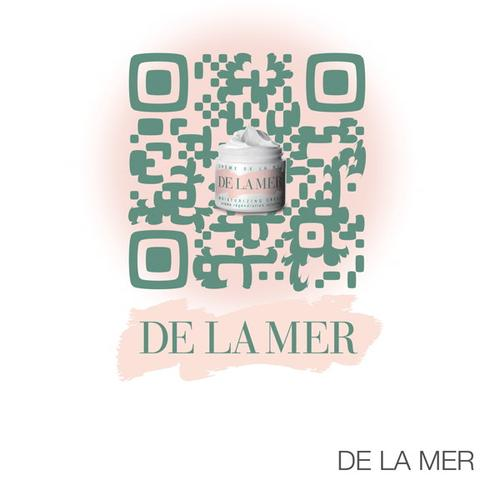QRCode: (114, 50, 379, 291)
